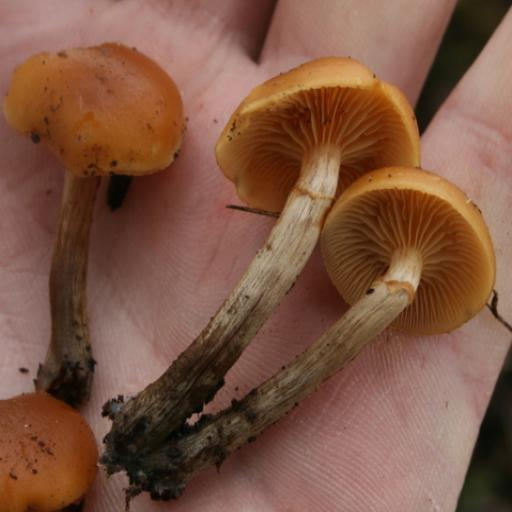mushroom: (201, 39, 503, 459), (5, 34, 185, 318)
